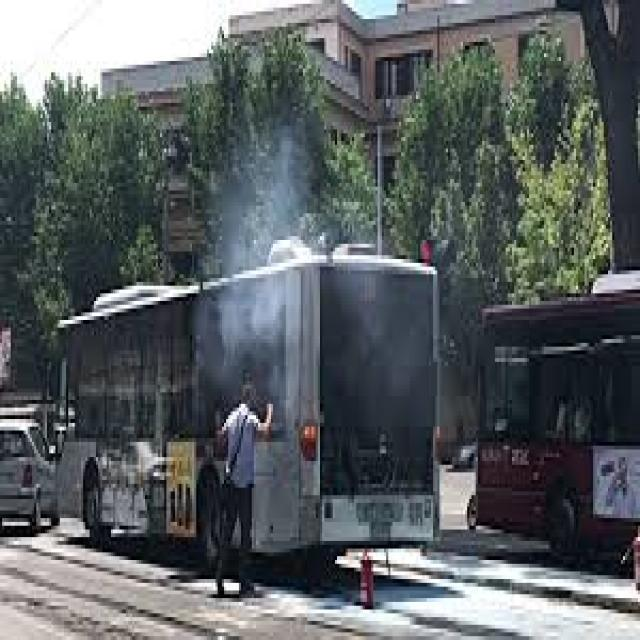Smoke: (206, 85, 396, 412)
